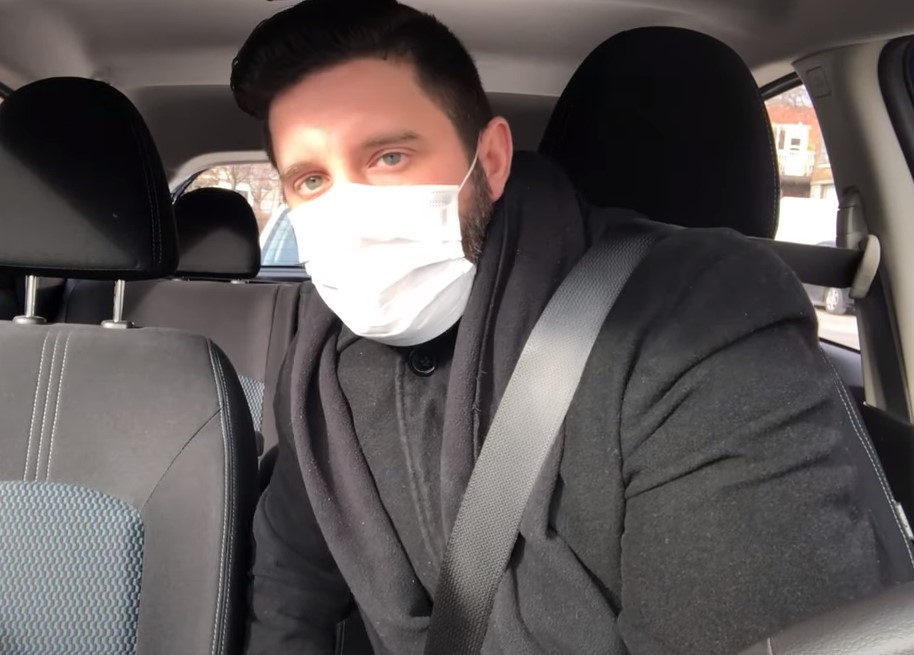face_with_mask: (228, 7, 511, 353)
